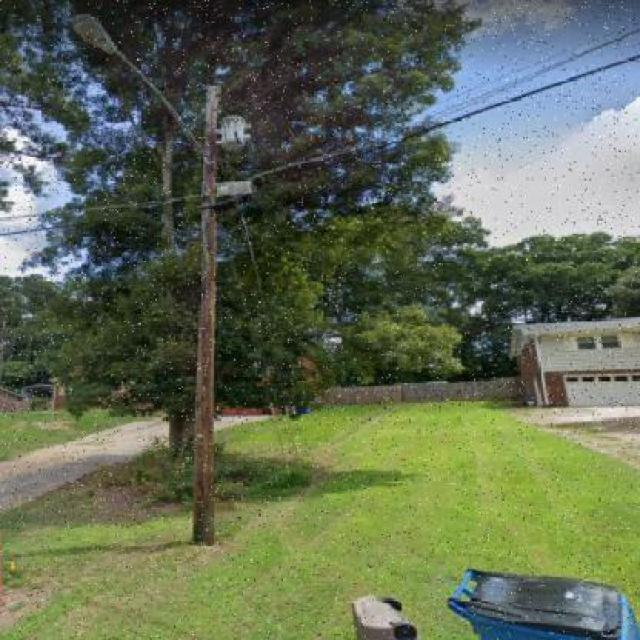pole: (47, 0, 284, 549)
